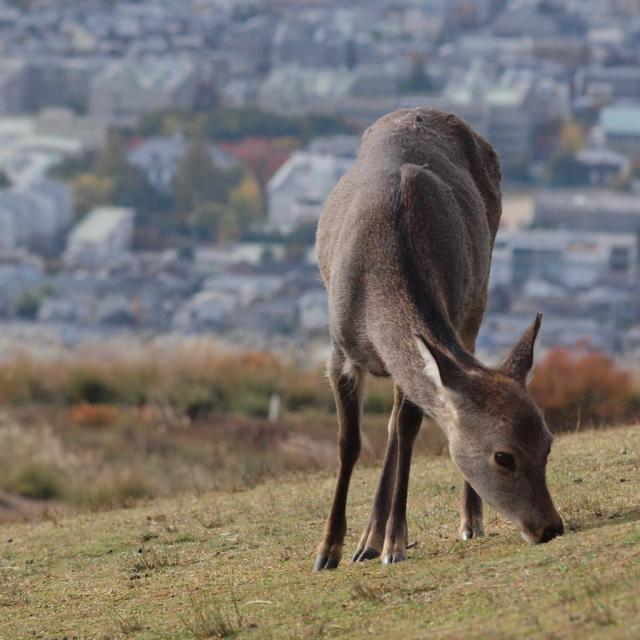Deer: (315, 102, 570, 572)
